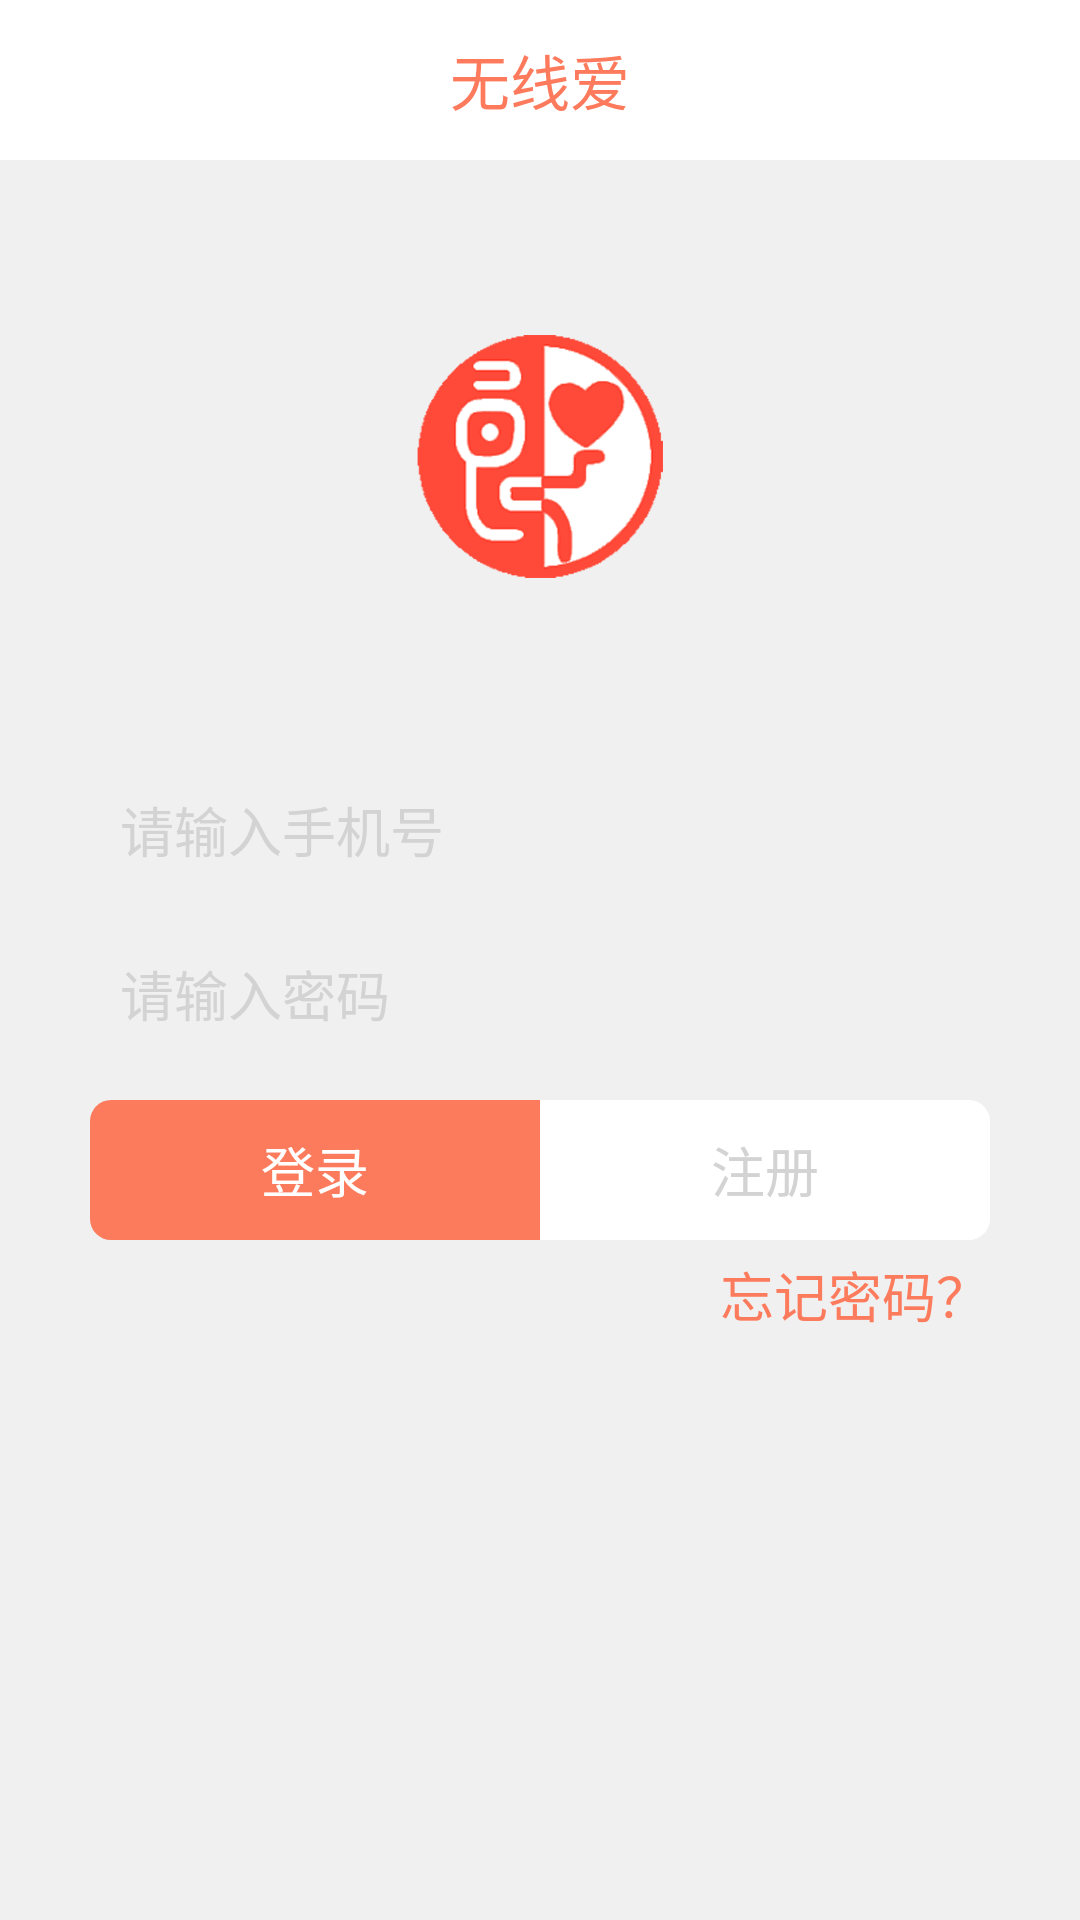

Locate icon controls on the screen. Image size 1080x1920, boxes as [x1=x1, y1=y1, x2=x2, y2=y2].
titleicon: [x1=417, y1=335, x2=663, y2=578]
